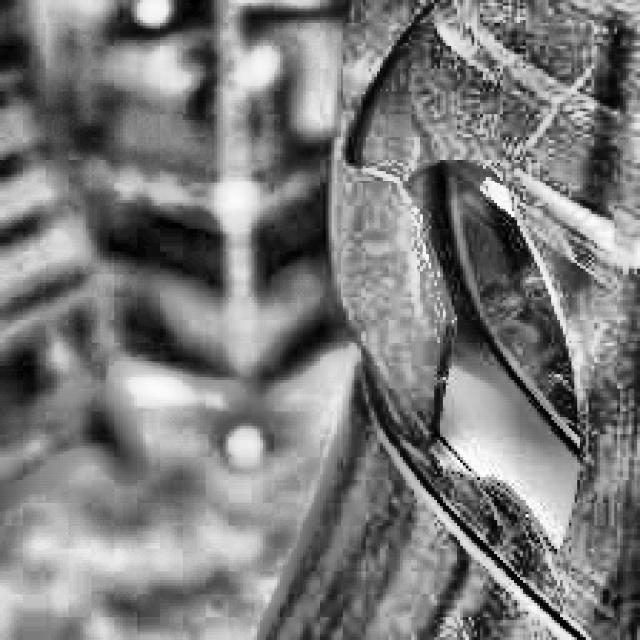tail_lamp: (404, 177, 594, 517)
